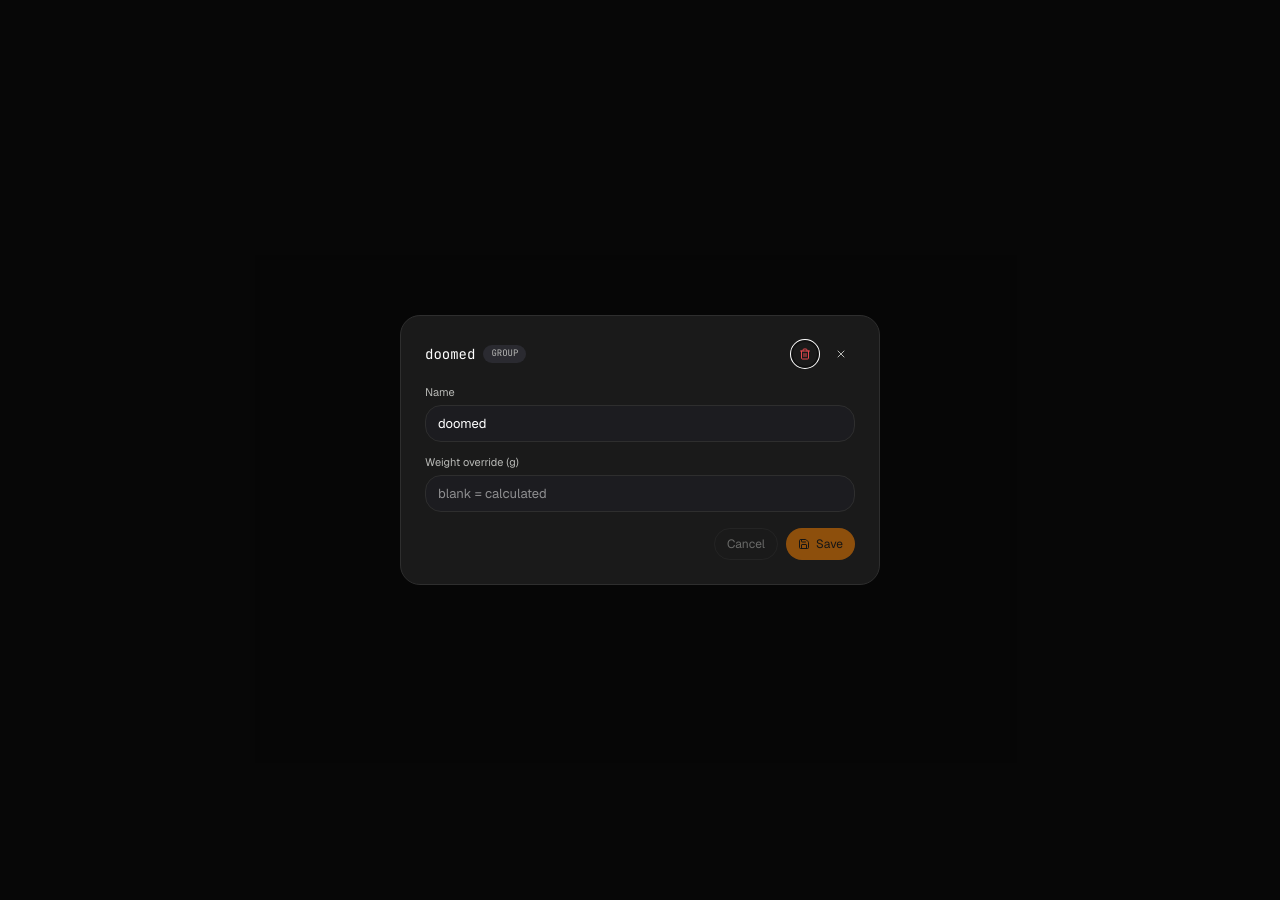
Test: NodePropertyPanel — delete › opens a confirmation modal on Delete click
The image size is (1280, 900).
Click the button titled "Delete node" at (805, 354), box left=791, top=340, right=819, bottom=368
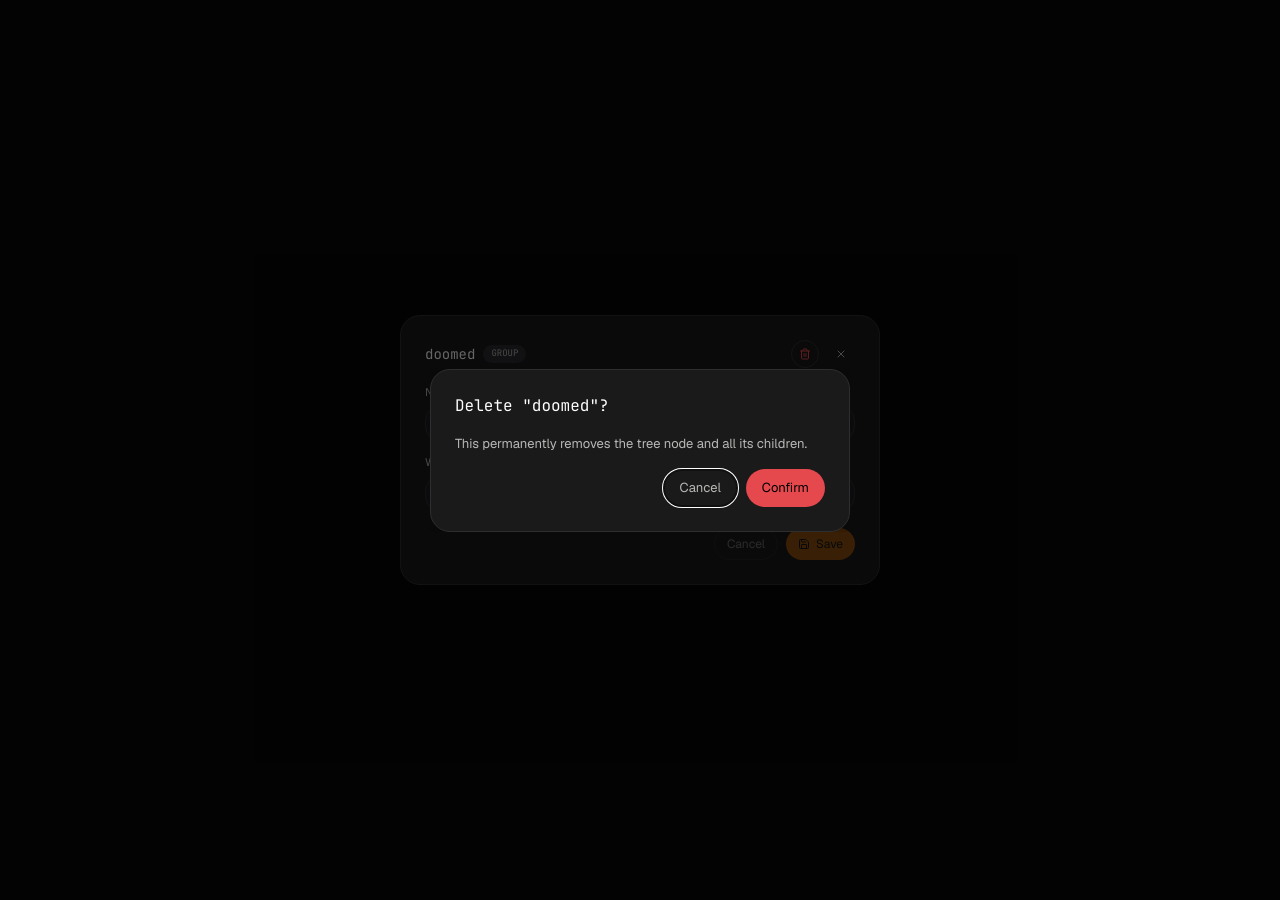
Now the text "Delete \"doomed\"?" is shown, box left=455, top=394, right=609, bottom=416
